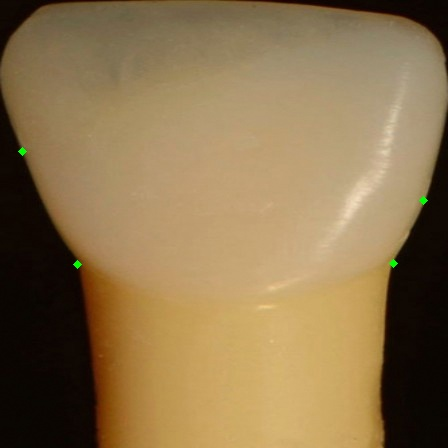coin_1: (77, 264, 97, 284)
coin_2: (22, 151, 42, 171)
coin_3: (393, 263, 413, 283)
coin_4: (423, 200, 443, 220)
